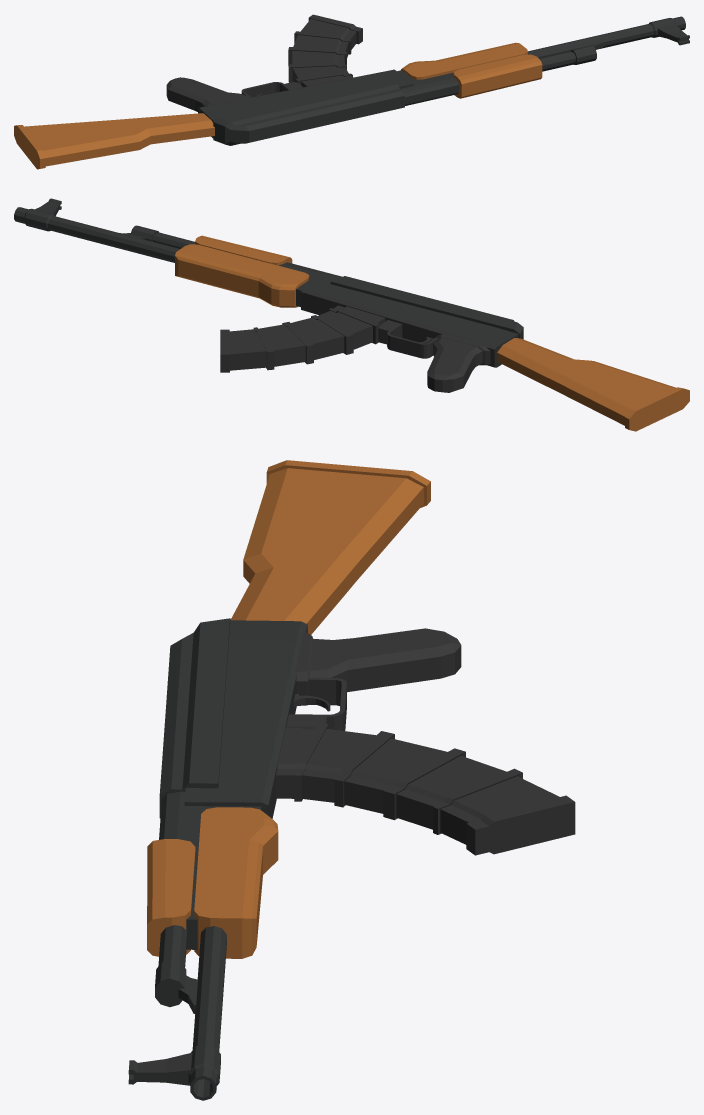
The model's file is Guns_5.fbx.
3 views of the same model, one above another, from view 1: azimuth 30°, elevation 25°; view 2: azimuth 150°, elevation 25°; view 3: azimuth 270°, elevation 25° (orthographic). The views are drawn at different scales.
Visible parts, largest first — view 1: Gun-5; view 2: Gun-5; view 3: Gun-5.
Boxes of the visible parts, x1,y1,x2,y2 form: Gun-5: (14,14,689,169); Gun-5: (14,198,689,431); Gun-5: (128,460,575,1100).
Bounding box in the file's own units: 3.37 × 0.1218 × 1.04.
